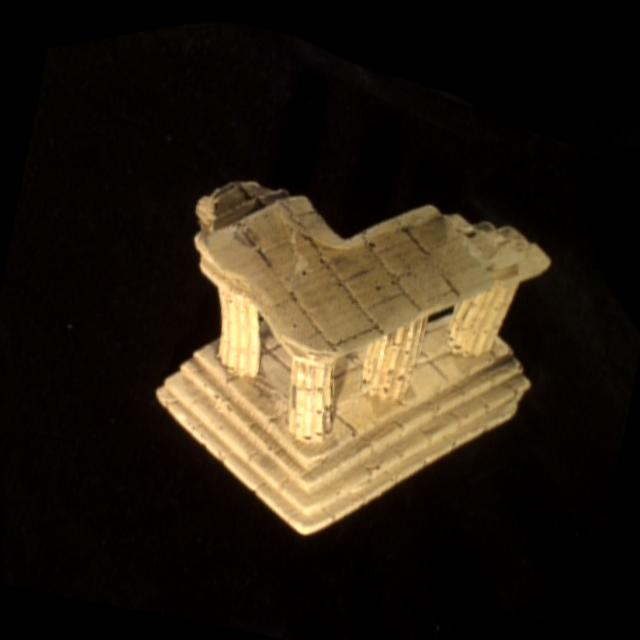Instance-Segmentation: (157, 184, 549, 534)
